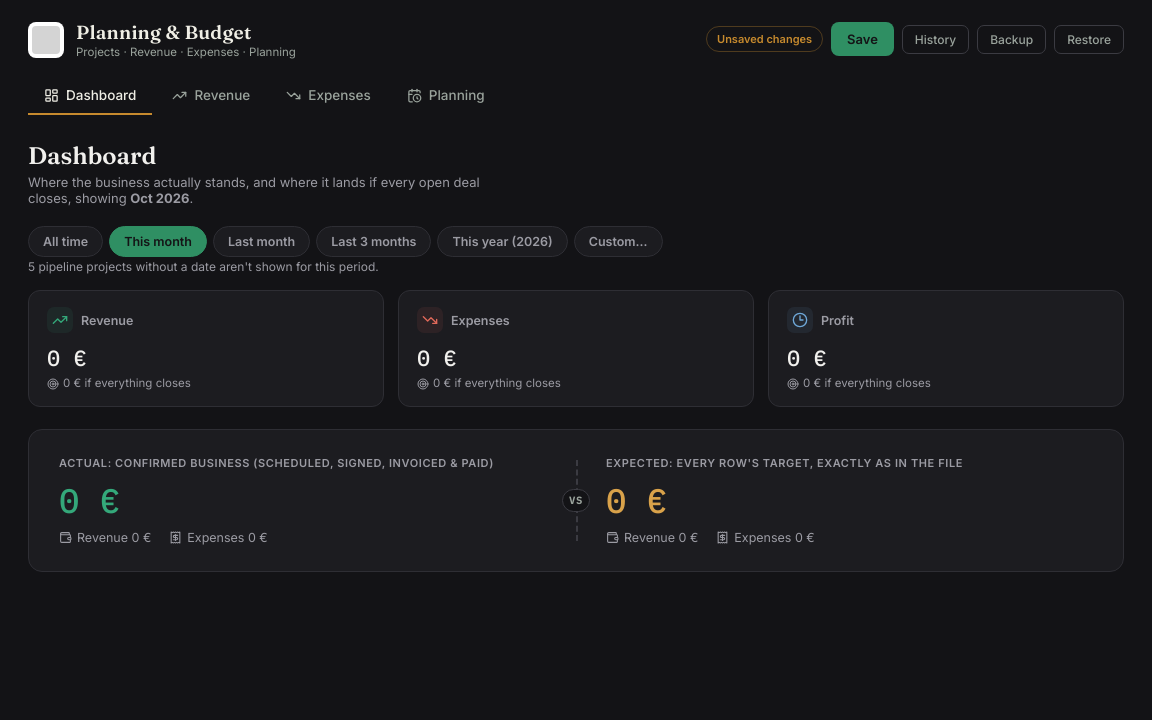
Test case: Dashboard period presets › narrowing to a specific month within a custom year filters further, and switching back to All time clears it
Click the button "Dashboard" at (90, 96), box [28,77,152,115]
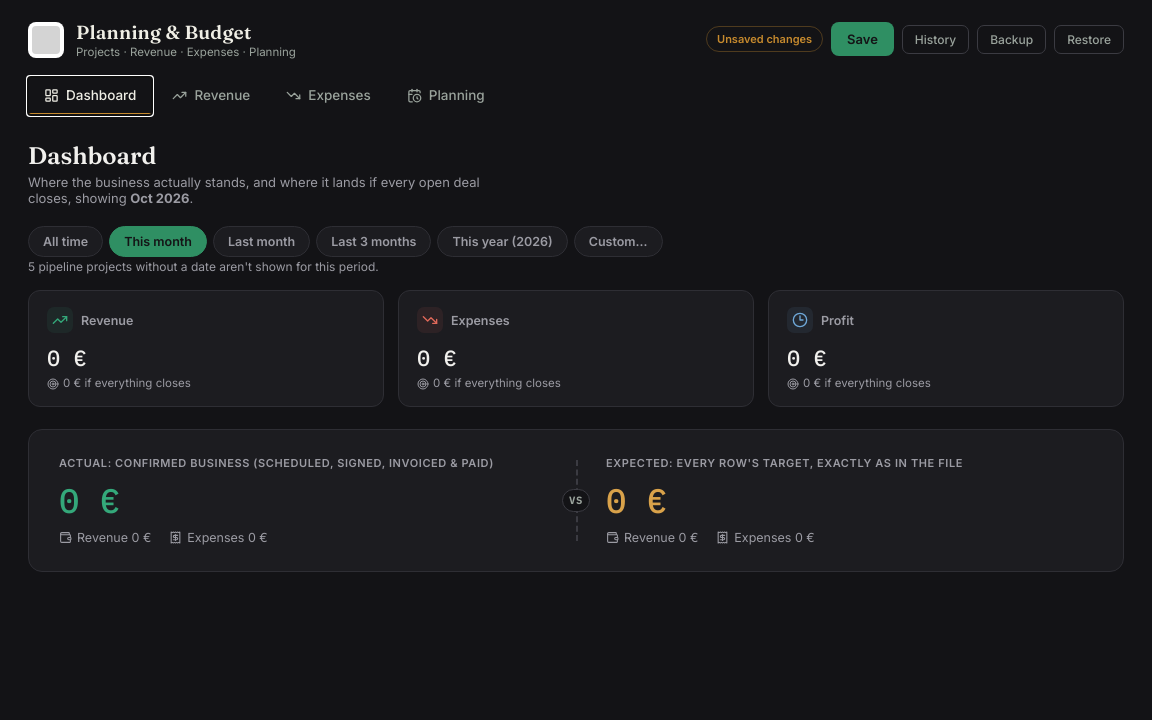
Click the button "Custom…" at (618, 242), box [574,226,662,257]
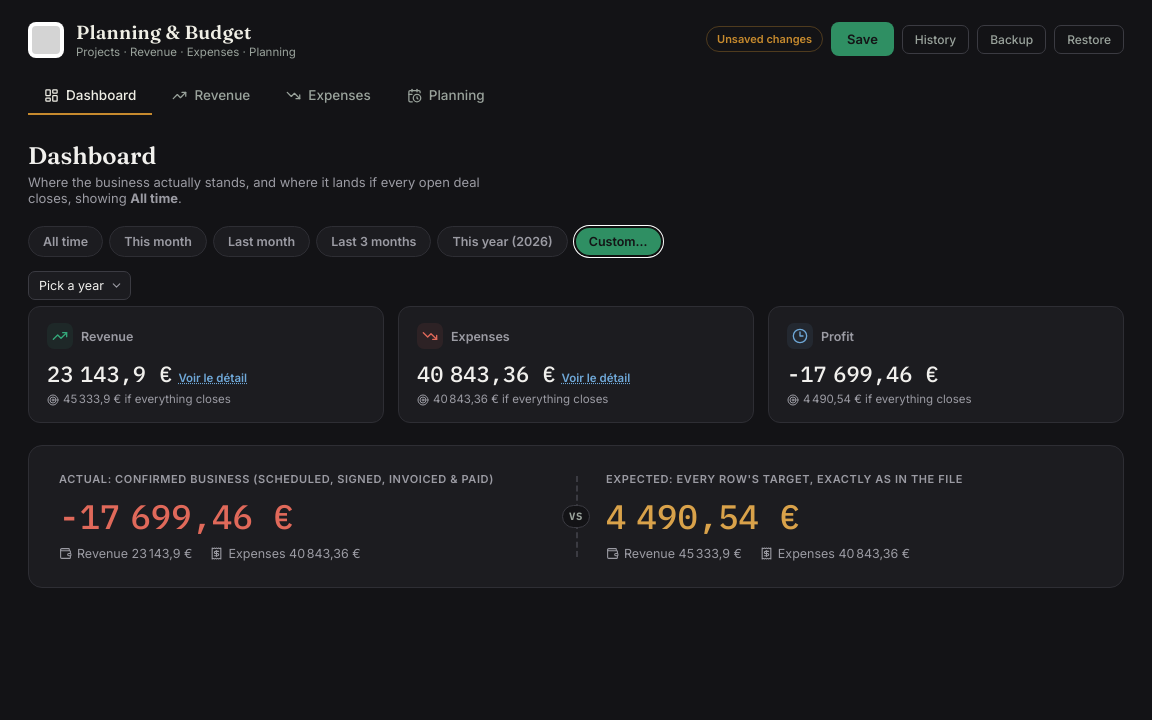
Select "2027" in the dropdown at (80, 286), box [28,271,131,300]
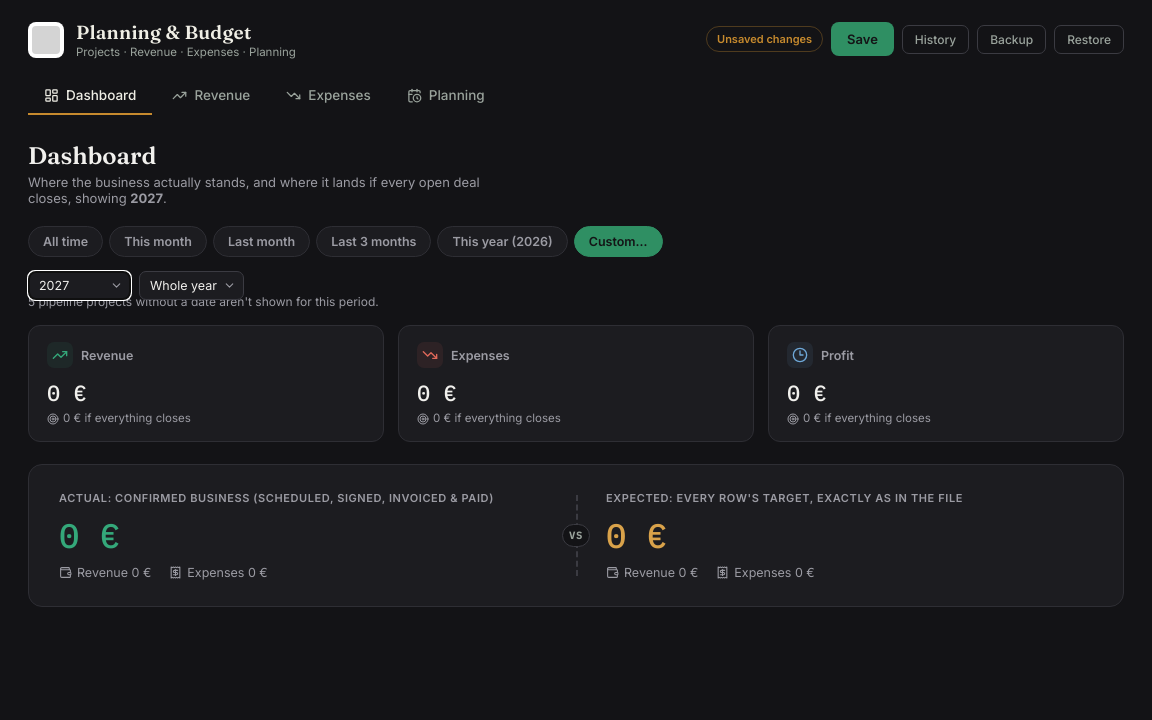
Expected: the number of dropdowns is 2
Select "Jan" in the 2nd dropdown at (192, 286), box [139,271,244,300]
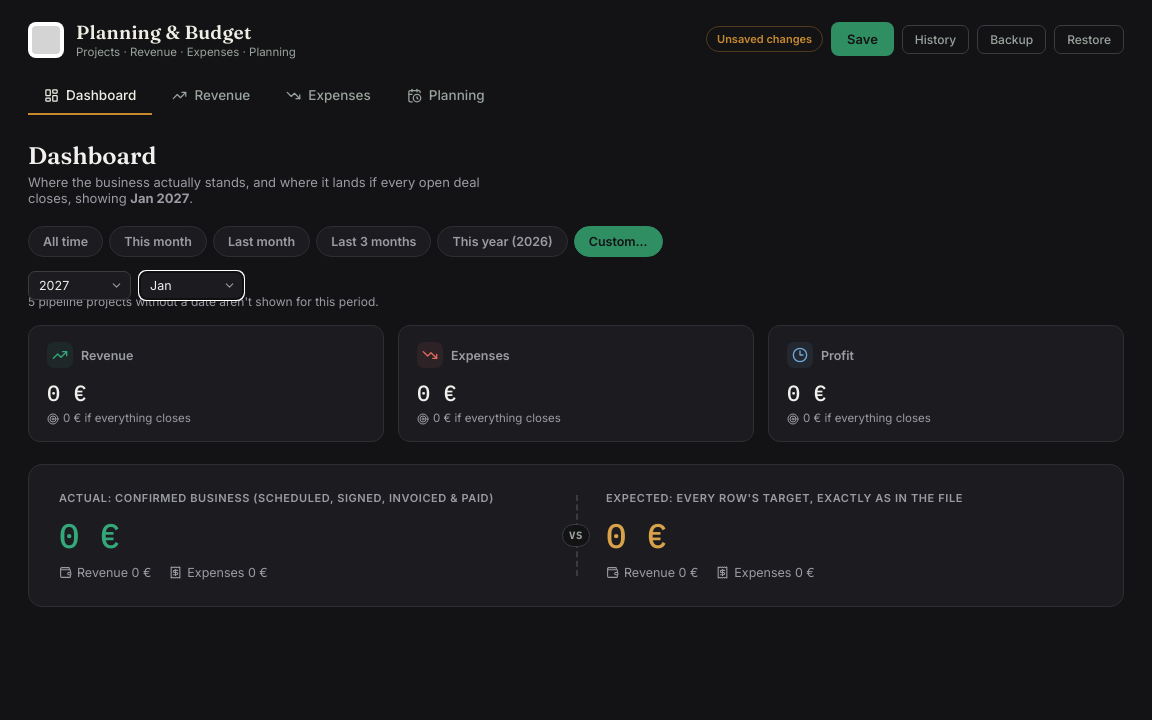
Expected: the text "Jan 2027" is shown, [130,190,189,206]
Click the button "All time" at (66, 242), box [28,226,103,257]
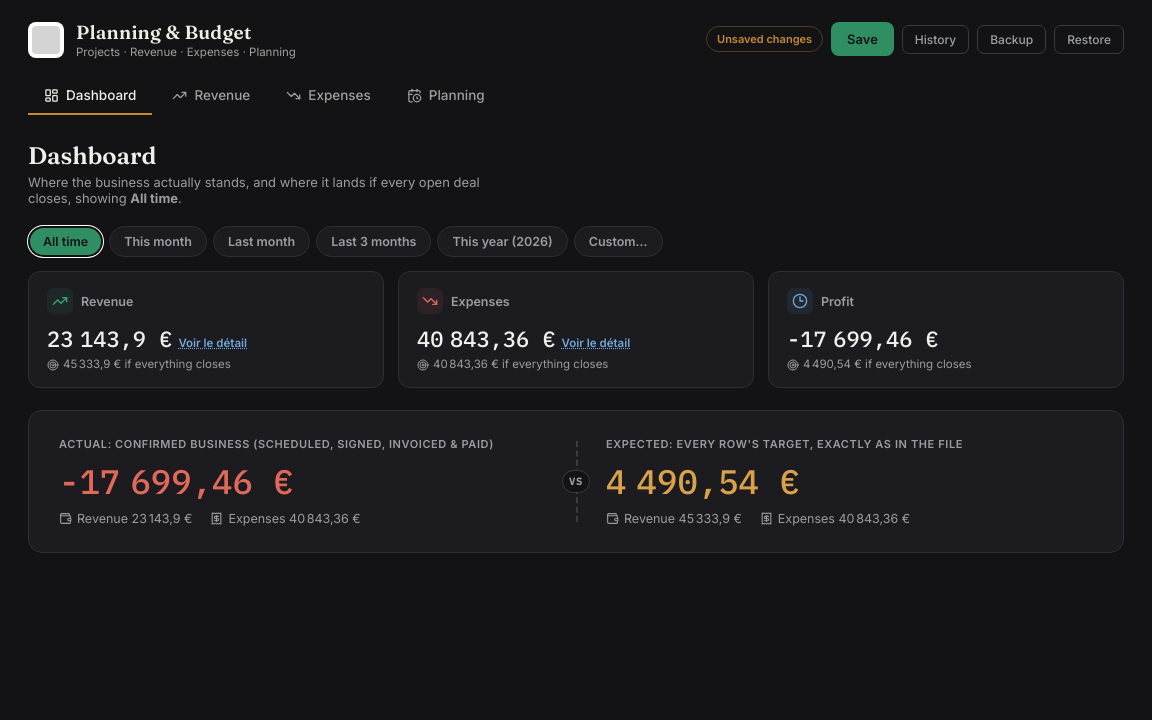
Expected: the text "All time" is shown, [130,190,178,206]
